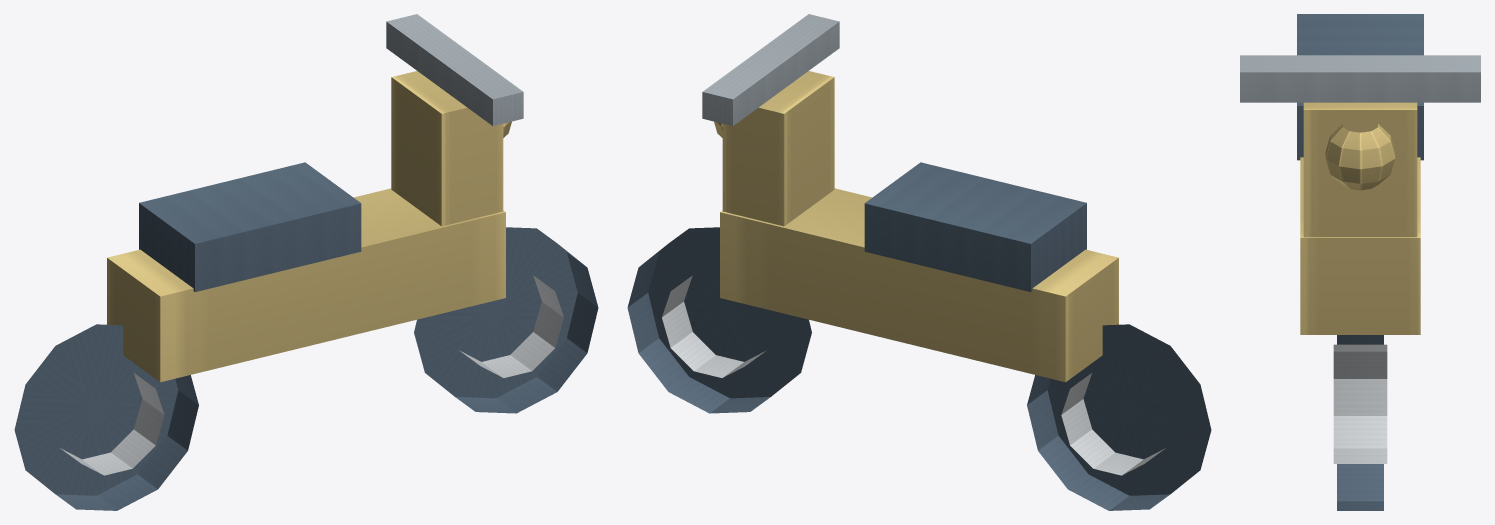
The model's file is bicycle.glb.
The picture shows the model from 3 angles, left to right: view 1: azimuth 30°, elevation 25°; view 2: azimuth 150°, elevation 25°; view 3: azimuth 270°, elevation 25°; orthographic projection. The views are drawn at different scales.
Parts seen in each view (by area): view 1: bicycle; view 2: bicycle; view 3: bicycle.
Boxes of the visible parts, x1,y1,x2,y2 form: bicycle: (14,14,598,510); bicycle: (627,14,1211,510); bicycle: (1240,14,1480,510).
Size of the model in its own units: 2.2 by 1.35 by 0.72.
1 material, 1 textured.
